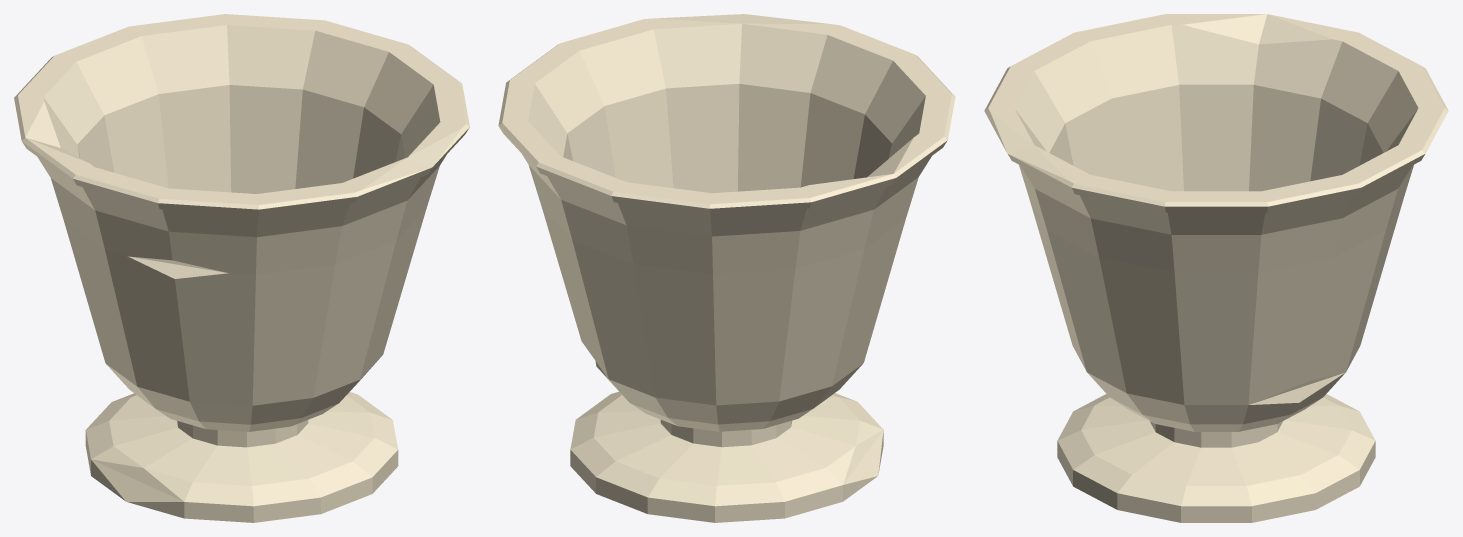
File: SFHW_Mortar.fbx
The picture shows the model from 3 angles, left to right: view 1: azimuth 30°, elevation 25°; view 2: azimuth 150°, elevation 25°; view 3: azimuth 270°, elevation 25°; orthographic projection.
Parts seen in each view (by area): view 1: SFHW_Mortar; view 2: SFHW_Mortar; view 3: SFHW_Mortar.
Boxes of the visible parts, <box> form: SFHW_Mortar: <box>14,14,469,522</box>; SFHW_Mortar: <box>498,14,955,522</box>; SFHW_Mortar: <box>984,14,1448,522</box>.
Bounding box in the file's own units: 25.67 × 21.85 × 26.33.
